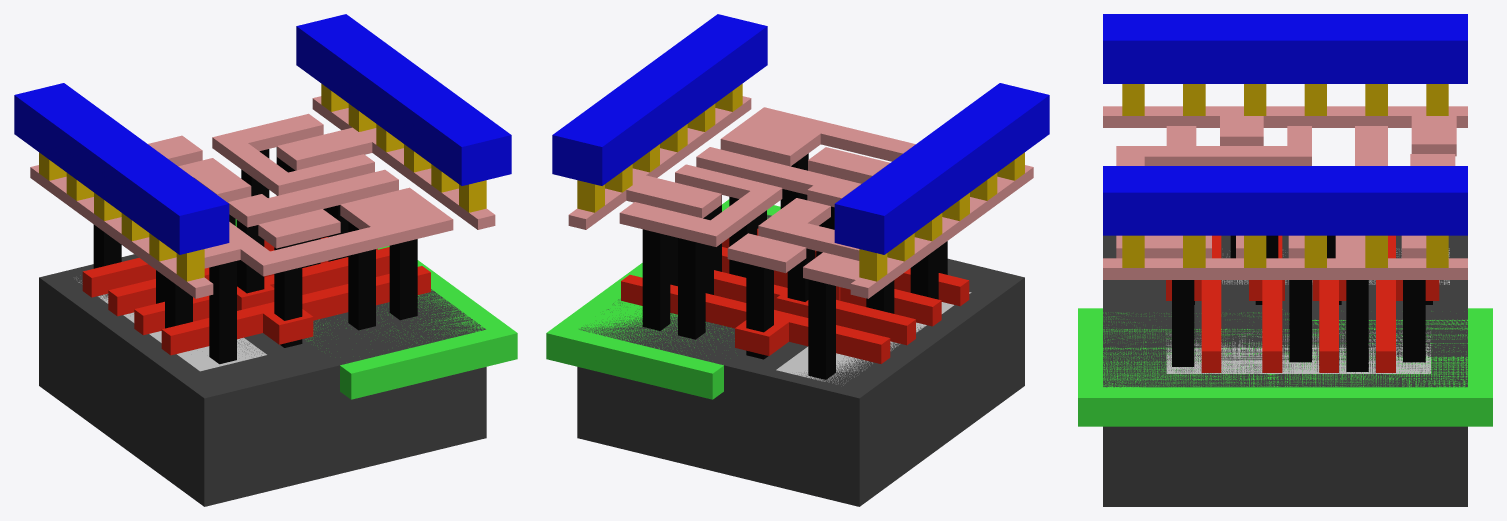
File: sky130_fd_sc_hd__a211oi_1.obj
3 renders of one model, left to right at view 1: azimuth 30°, elevation 25°; view 2: azimuth 150°, elevation 25°; view 3: azimuth 270°, elevation 25°, orthographic. The views are drawn at different scales.
Visible parts, largest first — view 1: subs, metal1, li, licon, poly, nwell, mcon, diff; view 2: subs, metal1, li, licon, poly, nwell, mcon, diff; view 3: subs, metal1, nwell, li, poly, mcon, licon, tap.
Boxes of the visible parts, x1=… form: subs: x1=39, y1=254, x2=486, y2=506; metal1: x1=14, y1=14, x2=511, y2=254; li: x1=30, y1=96, x2=495, y2=298; licon: x1=93, y1=147, x2=417, y2=364; poly: x1=82, y1=237, x2=430, y2=355; nwell: x1=235, y1=219, x2=517, y2=399; mcon: x1=39, y1=83, x2=486, y2=281; diff: x1=76, y1=278, x2=266, y2=371; subs: x1=577, y1=214, x2=1024, y2=506; metal1: x1=552, y1=14, x2=1049, y2=254; li: x1=568, y1=96, x2=1033, y2=298; licon: x1=642, y1=153, x2=947, y2=379; poly: x1=621, y1=228, x2=969, y2=363; nwell: x1=546, y1=199, x2=780, y2=399; mcon: x1=577, y1=83, x2=1024, y2=281; diff: x1=776, y1=292, x2=971, y2=385; subs: x1=1103, y1=235, x2=1467, y2=506; metal1: x1=1103, y1=14, x2=1467, y2=235; nwell: x1=1078, y1=308, x2=1492, y2=426; li: x1=1103, y1=106, x2=1467, y2=279; poly: x1=1166, y1=235, x2=1439, y2=372; mcon: x1=1122, y1=84, x2=1448, y2=267; licon: x1=1172, y1=235, x2=1432, y2=371; tap: x1=1166, y1=329, x2=1430, y2=373.
Bounding box in the file's own units: 3.2 × 2.74 × 3.14.
